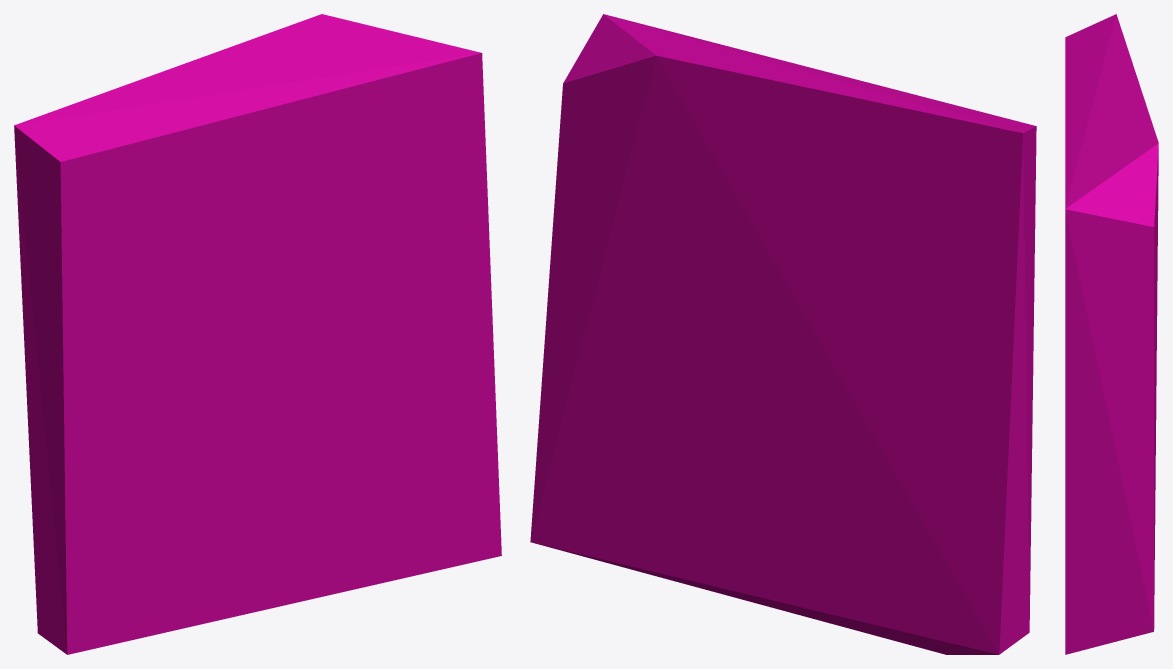
The model's file is garden_table_convex_piece_006.obj.
3 renders of one model, left to right at view 1: azimuth 30°, elevation 25°; view 2: azimuth 150°, elevation 25°; view 3: azimuth 270°, elevation 25°, orthographic. The views are drawn at different scales.
Bounding box in the file's own units: 0.2002 × 0.2249 × 0.0411.
